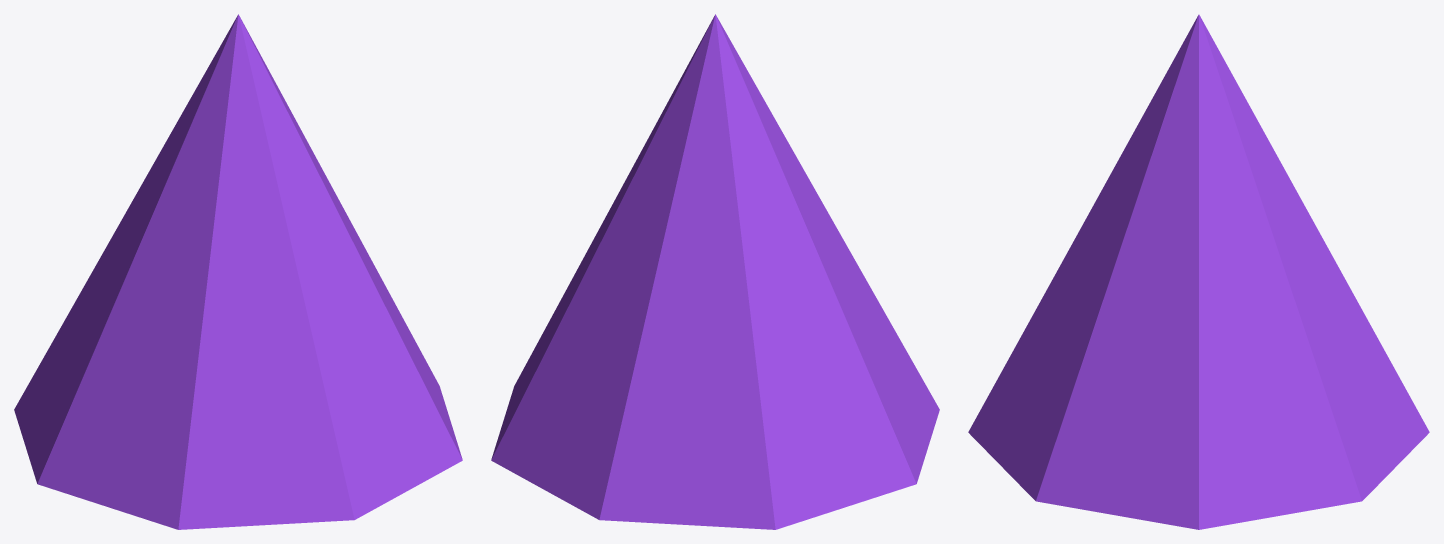
The model's file is sensor.glb.
3 renders of one model, left to right at view 1: azimuth 30°, elevation 25°; view 2: azimuth 150°, elevation 25°; view 3: azimuth 270°, elevation 25°, orthographic.
Visible parts, largest first — view 1: Cone; view 2: Cone; view 3: Cone.
Part boxes in pixels (<box>): Cone: <box>14,14,462,529</box>; Cone: <box>491,14,939,529</box>; Cone: <box>968,14,1429,529</box>.
Size of the model in its own units: 0.2 by 0.2 by 0.2.
